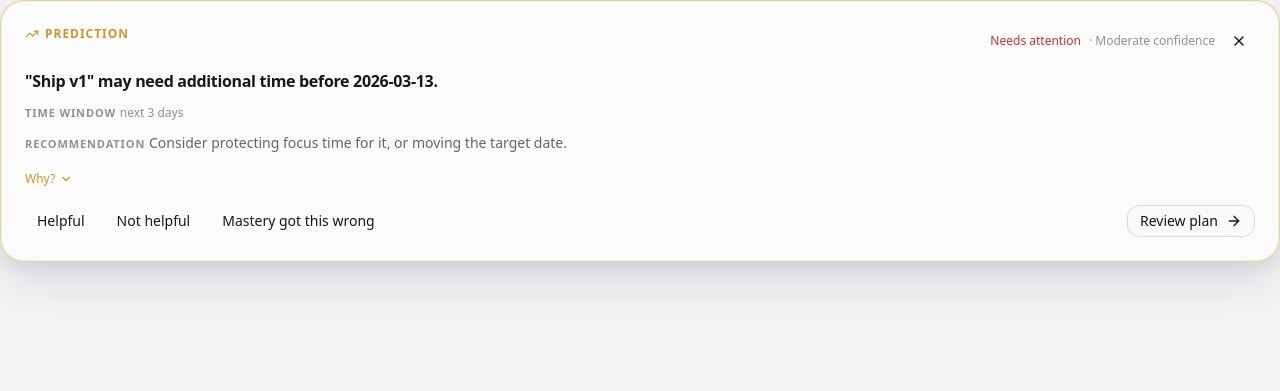
it: PredictionCard › reveals the supporting facts behind 'Why?'
The width and height of the screenshot is (1280, 391).
Click the button "Why?" at {"x": 49, "y": 179}, box [25, 171, 73, 187]
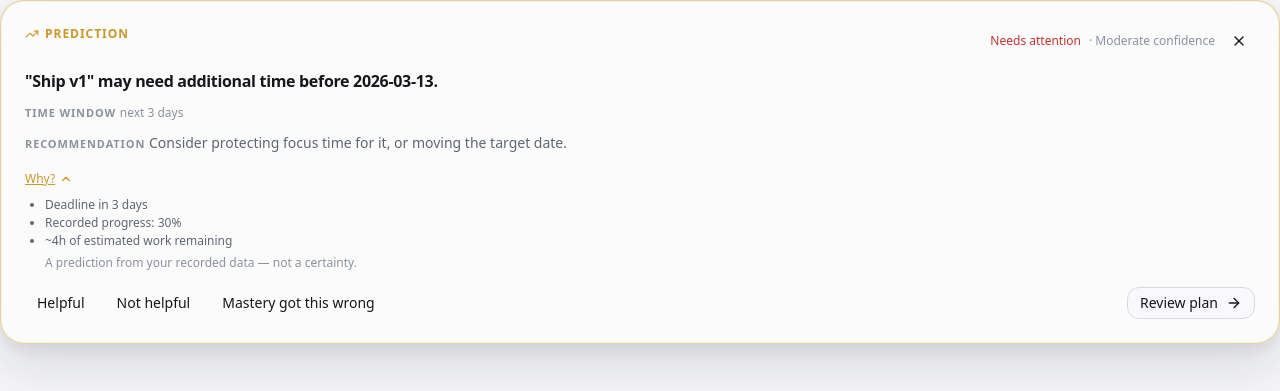
Check: the list item "~4h of estimated work remaining" is shown, box [45, 232, 232, 249]
Check: the list item "A prediction from your recorded data — not a certainty." is shown, box [45, 254, 357, 271]
